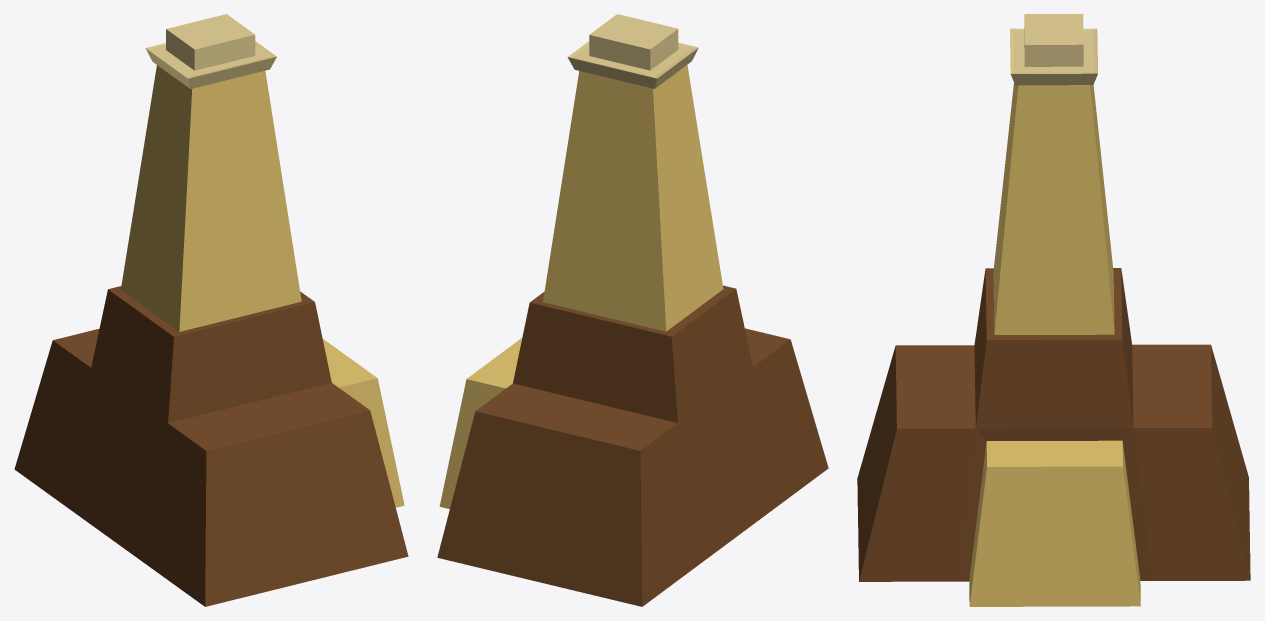
3 renders of one model, left to right at view 1: azimuth 30°, elevation 25°; view 2: azimuth 150°, elevation 25°; view 3: azimuth 270°, elevation 25°, orthographic. The views are drawn at different scales.
Visible parts, largest first — view 1: Largest Temple.001; view 2: Largest Temple.001; view 3: Largest Temple.001.
Boxes of the visible parts, left/top/right/bottom form: Largest Temple.001: left=14, top=14, right=408, bottom=606; Largest Temple.001: left=437, top=14, right=828, bottom=606; Largest Temple.001: left=857, top=14, right=1250, bottom=606.
Size of the model in its own units: 1.55 by 2.8 by 1.99.
